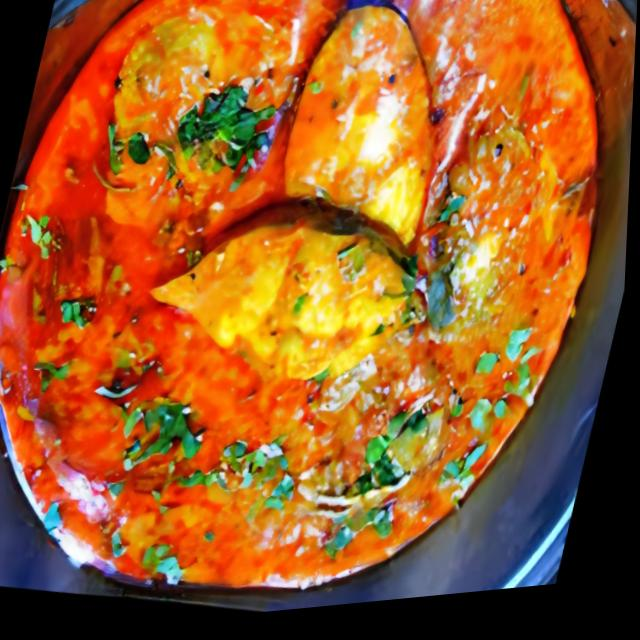FISH CURRY: (0, 0, 597, 587)
